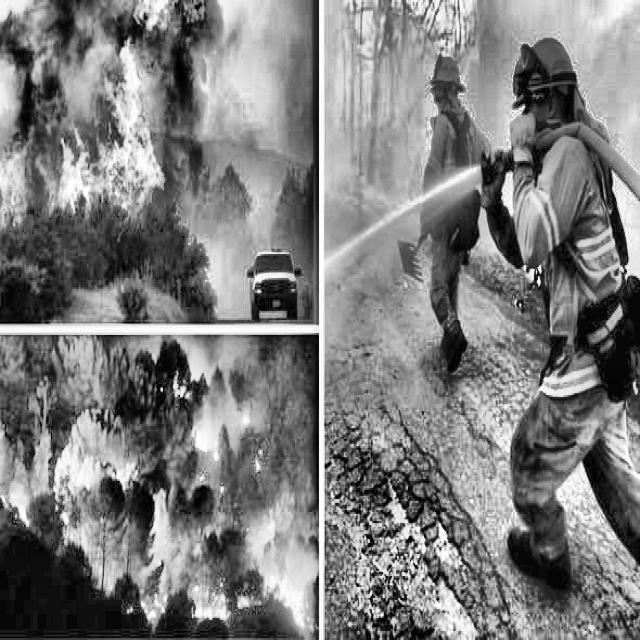fire: (3, 349, 314, 640), (0, 29, 184, 285)
